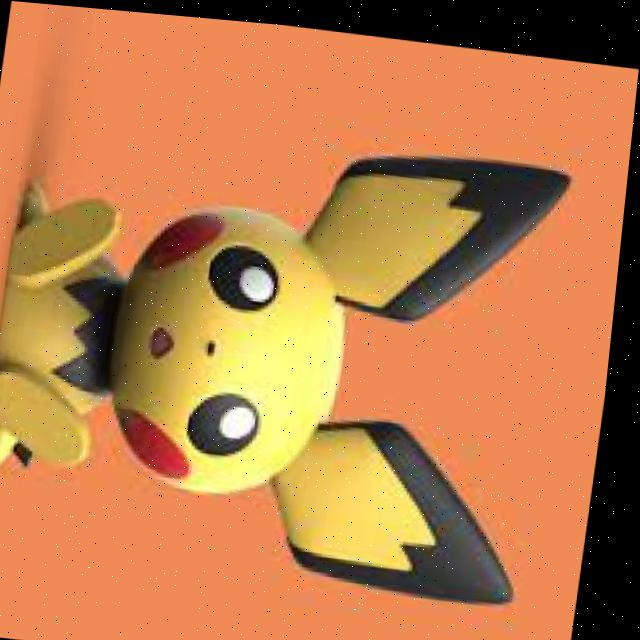pichu: (0, 73, 590, 611)
